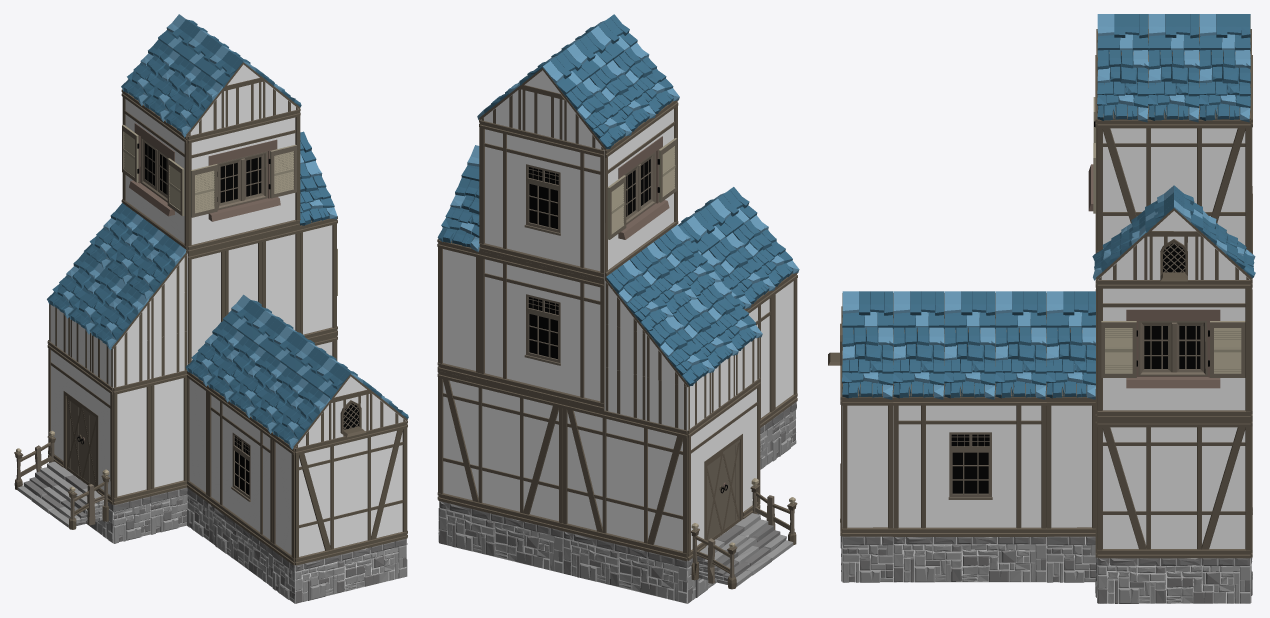
The model's file is House_17_full.fbx.
3 views of the same model, side by side, from view 1: azimuth 30°, elevation 25°; view 2: azimuth 150°, elevation 25°; view 3: azimuth 270°, elevation 25° (orthographic). The views are drawn at different scales.
Parts seen in each view (by area): view 1: WINDOW_06_3, WALL_02_2, WINDOW_03_2, WINDOW_06_4, DOOR_03_2, WALL_03_8, STAIRS_03_2, WALL_03_7, FOUNDATION_02_24, WALL_03_10, WALL_03_13, WALL_03_11 (+45 smaller); view 2: WINDOW_03_5, WALL_02_5, WINDOW_03_4, WALL_02_4, WINDOW_06_4, DOOR_03_2, STAIRS_03_2, WALL_03_14, FOUNDATION_02_27, FOUNDATION_02_28, WALL_03_4, ROOF_base_16 (+33 smaller); view 3: WALL_02_3, WINDOW_06_2, WINDOW_03_3, WALL_02_6, WALL_03_5, FOUNDATION_02_25, FOUNDATION_02_26, WALL_03_6, ROOF_base_4, ROOF_base_5, ROOF_base_3, ROOF_base_6 (+23 smaller).
Part boxes in pixels (<box>): WINDOW_06_3: <box>187,109,299,253</box>; WALL_02_2: <box>295,421,407,565</box>; WINDOW_03_2: <box>207,385,272,549</box>; WINDOW_06_4: <box>121,89,187,251</box>; DOOR_03_2: <box>47,341,113,504</box>; WALL_03_8: <box>113,379,151,505</box>; STAIRS_03_2: <box>14,430,109,529</box>; WALL_03_7: <box>151,370,187,495</box>; FOUNDATION_02_24: <box>295,538,406,603</box>; WALL_03_10: <box>299,218,337,340</box>; WALL_03_13: <box>187,245,225,364</box>; WALL_03_11: <box>262,226,299,332</box>; WINDOW_03_5: <box>479,120,604,280</box>; WALL_02_5: <box>562,401,687,561</box>; WINDOW_03_4: <box>479,251,604,410</box>; WALL_02_4: <box>438,370,562,530</box>; WINDOW_06_4: <box>604,100,678,280</box>; DOOR_03_2: <box>687,378,760,560</box>; STAIRS_03_2: <box>691,478,797,589</box>; WALL_03_14: <box>438,240,480,380</box>; FOUNDATION_02_27: <box>439,501,563,573</box>; FOUNDATION_02_28: <box>563,531,687,603</box>; WALL_03_4: <box>773,273,797,417</box>; ROOF_base_16: <box>605,260,673,333</box>; WALL_02_3: <box>1097,419,1250,558</box>; WINDOW_06_2: <box>1097,280,1250,419</box>; WINDOW_03_3: <box>893,397,1046,536</box>; WALL_02_6: <box>1097,119,1250,252</box>; WALL_03_5: <box>842,397,893,536</box>; FOUNDATION_02_25: <box>893,537,1046,582</box>; FOUNDATION_02_26: <box>1097,558,1250,603</box>; WALL_03_6: <box>1046,397,1095,536</box>; ROOF_base_4: <box>944,326,995,399</box>; ROOF_base_5: <box>893,326,944,399</box>; ROOF_base_3: <box>995,327,1046,399</box>; ROOF_base_6: <box>842,327,893,399</box>.
Size of the model in its own units: 732 by 1159 by 838.
